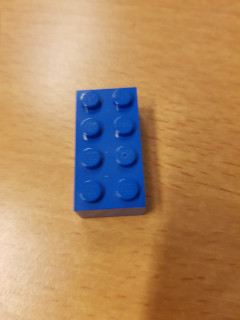2x4 blue: (72, 86, 151, 219)
